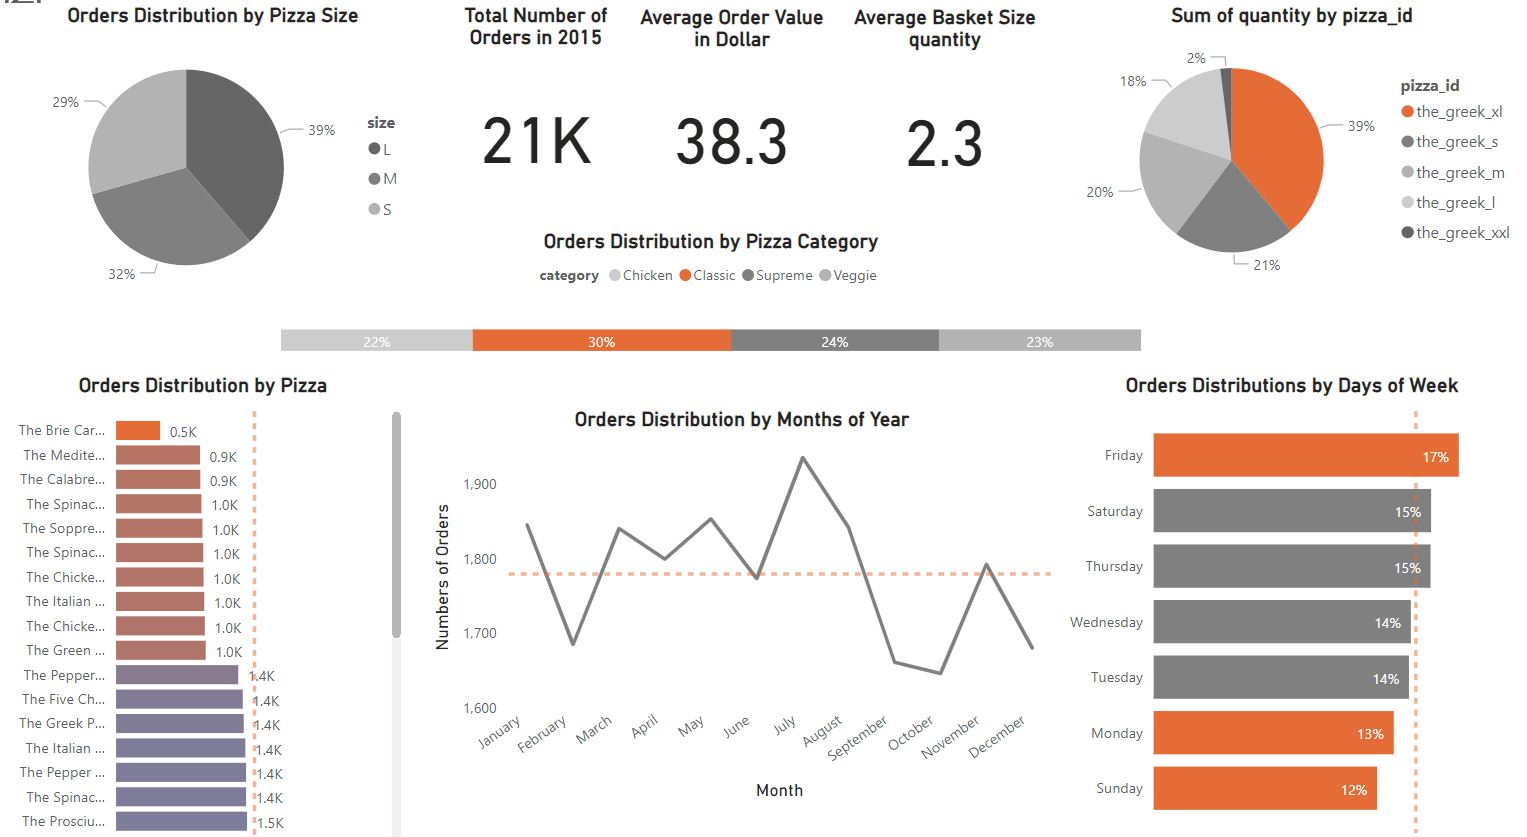

This screenshot's page, from the dashboard's own definition file:
{"tool":"powerbi","page":{"name":"Page 1","canvas":[1280,720],"ordinal":0},"visuals":[{"type":"hundredPercentStackedBarChart","title":"Orders Distribution by Pizza Category","fields":{"Y":["Sum(order_details.quantity)"],"Series":["pizza_types.category"]},"box":[231.2,209.4,730.5,132.4],"z":0},{"type":"lineChart","title":"Orders Distribution by Months of Year","fields":{"Category":["orders.date.Variation.Date Hierarchy.Quarter","orders.date.Variation.Date Hierarchy.Month","orders.date.Variation.Date Hierarchy.Day"],"Y":["CountNonNull(orders.order_id)"]},"box":[358.5,358.5,527.7,333.4],"z":1000},{"type":"barChart","title":"Orders Distributions by Days of Week","fields":{"Category":["orders.WeekDayName"],"Y":["Table.DayQuantPercentage"]},"box":[886.3,330.1,393.7,390.4],"z":2000},{"type":"actionButton","box":[0,0,100,40],"z":3000},{"type":"card","title":"Average Order Value in Dollar","fields":{"Values":["Avg(OrderValue.Value)"]},"box":[529.4,21.8,169.2,175.9],"z":4000},{"type":"card","title":"Total Number of Orders in 2015","fields":{"Values":["CountNonNull(orders.order_id)"]},"box":[370.3,20.1,159.2,177.6],"z":5000},{"type":"card","title":"Average Basket Size quantity","fields":{"Values":["Avg(basket.Basketsize)"]},"box":[698.6,21.8,187.6,179.3],"z":6000},{"type":"pieChart","title":"Orders Distribution by Pizza Size","fields":{"Category":["pizzas.size"],"Y":["Sum(order_details.quantity)"]},"box":[0,20.1,358.5,256.3],"z":7000},{"type":"pieChart","fields":{"Y":["Sum(order_details.quantity)"],"Category":["order_details.pizza_id"]},"box":[886.3,20.1,393.7,244.6],"z":8000},{"type":"barChart","title":"Orders Distribution by Pizza","fields":{"Category":["pizza_types.name"],"Y":["Sum(order_details.quantity)"]},"box":[0,330.1,341.8,397.1],"z":9000}]}

Visuals, with their boxes in screenshot pixels (x1, y1, x2, y2), scaled from the page's 1280x720 canvas onto the 1527x837 screenshot:
"Orders Distribution by Pizza Category" hundredPercentStackedBarChart: x1=276, y1=243, x2=1147, y2=397
"Orders Distribution by Months of Year" lineChart: x1=428, y1=417, x2=1057, y2=804
"Orders Distributions by Days of Week" barChart: x1=1057, y1=384, x2=1526, y2=836
actionButton: x1=0, y1=0, x2=119, y2=46
"Average Order Value in Dollar" card: x1=632, y1=25, x2=833, y2=230
"Total Number of Orders in 2015" card: x1=442, y1=23, x2=632, y2=230
"Average Basket Size quantity" card: x1=833, y1=25, x2=1057, y2=234
"Orders Distribution by Pizza Size" pieChart: x1=0, y1=23, x2=428, y2=321
pieChart - Sum(order_details.quantity) x order_details.pizza_id: x1=1057, y1=23, x2=1526, y2=308
"Orders Distribution by Pizza" barChart: x1=0, y1=384, x2=408, y2=836
